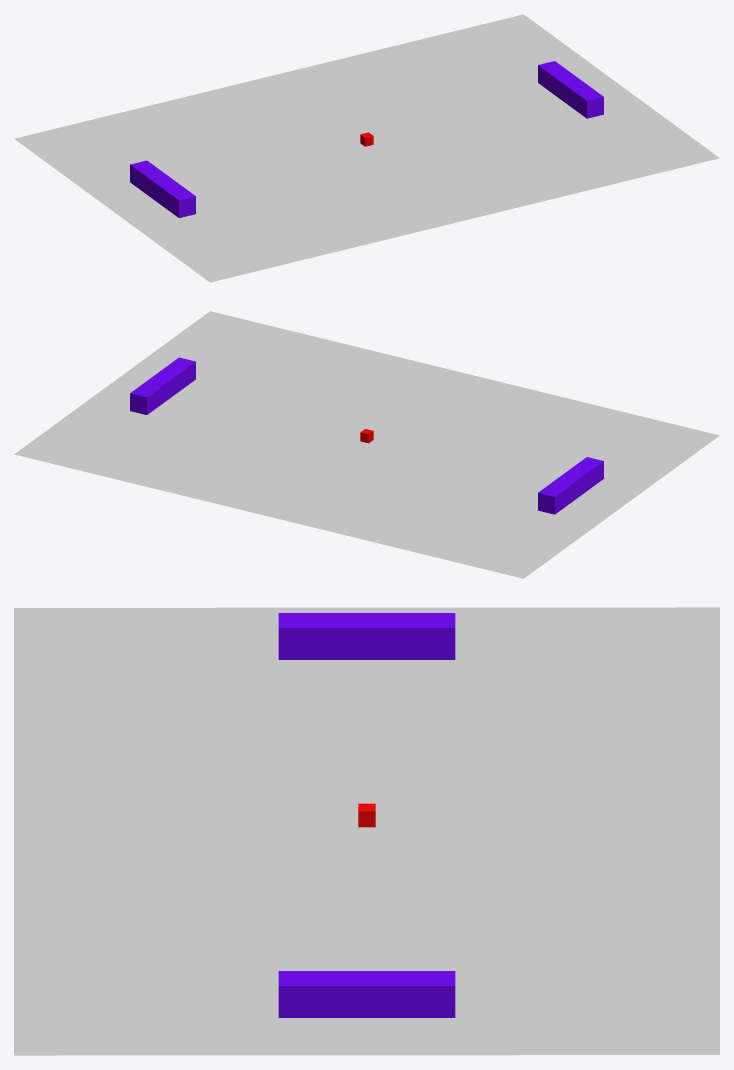
File: asset.gltf
3 renders of one model, top to bottom at view 1: azimuth 30°, elevation 25°; view 2: azimuth 150°, elevation 25°; view 3: azimuth 270°, elevation 25°, orthographic. The views are drawn at different scales.
Parts seen in each view (by area): view 1: Ground, Pad 1, Pad 2; view 2: Ground, Pad 1, Pad 2; view 3: Ground, Pad 1, Pad 2.
Part boxes in pixels (x1,y1,x2,y2): Ground: (14, 14, 719, 282); Pad 1: (130, 160, 195, 218); Pad 2: (538, 61, 603, 118); Ground: (14, 311, 719, 578); Pad 1: (538, 457, 603, 514); Pad 2: (130, 357, 195, 414); Ground: (14, 607, 719, 1055); Pad 1: (278, 613, 455, 659); Pad 2: (278, 971, 455, 1017).
Size of the model in its own units: 6 by 0.2016 by 4.
